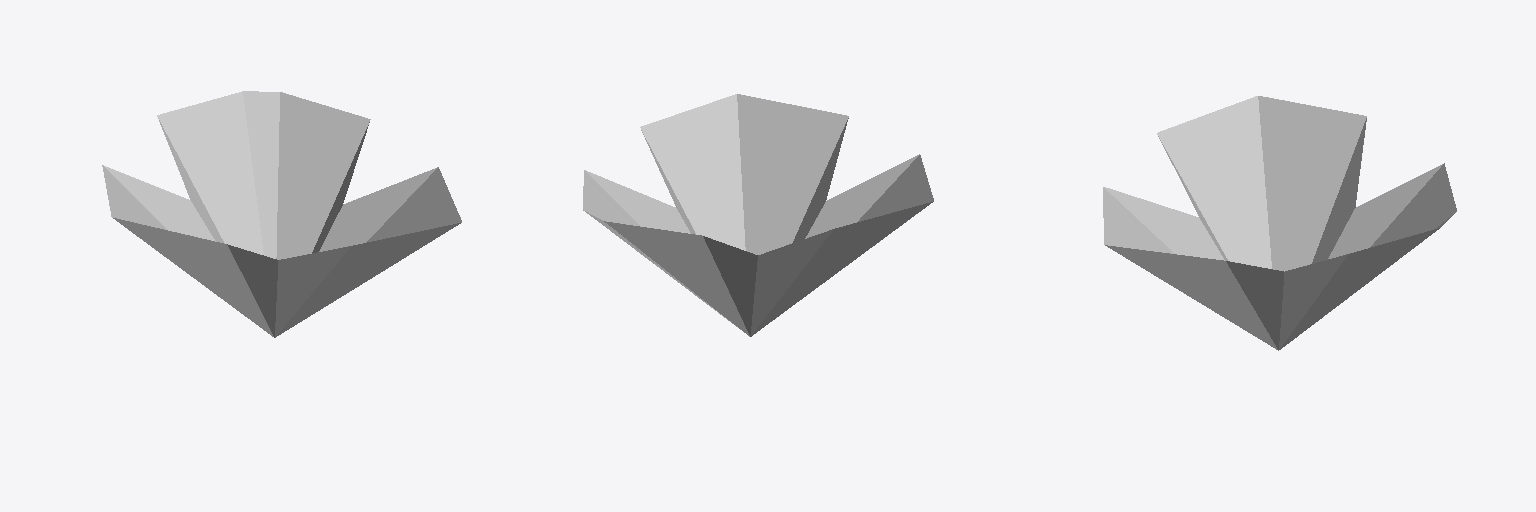
Rendered from Petal_1.obj.
3 views of the same model, side by side, from view 1: azimuth 30°, elevation 25°; view 2: azimuth 150°, elevation 25°; view 3: azimuth 270°, elevation 25° (orthographic).
Visible parts, largest first — view 1: Petal_1; view 2: Petal_1; view 3: Petal_1.
Part boxes in pixels (left/top/right/bottom): Petal_1: left=102, top=91, right=461, bottom=337; Petal_1: left=583, top=94, right=933, bottom=336; Petal_1: left=1103, top=96, right=1456, bottom=350.
Size of the model in its own units: 0.4602 by 0.2437 by 0.455.